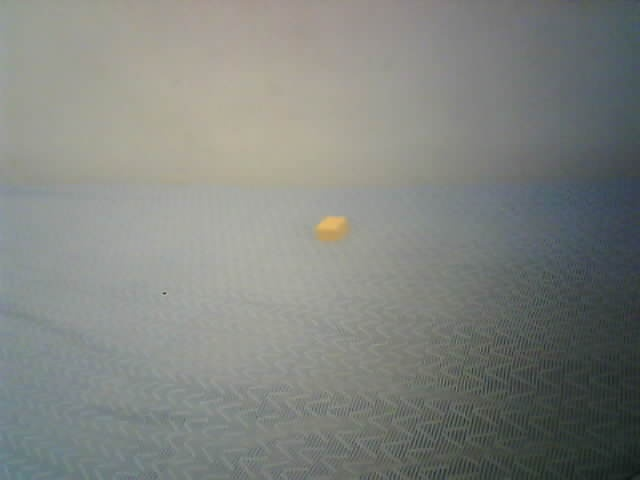lego: (314, 215, 350, 242)
